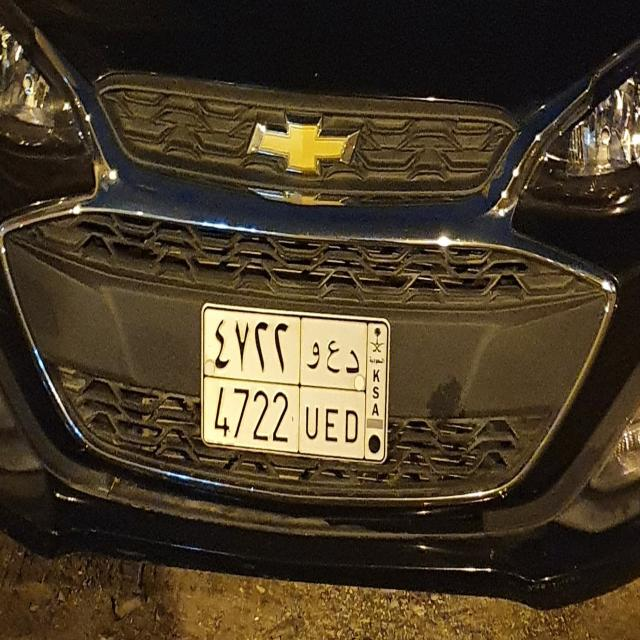license_plate: (199, 300, 392, 469)
